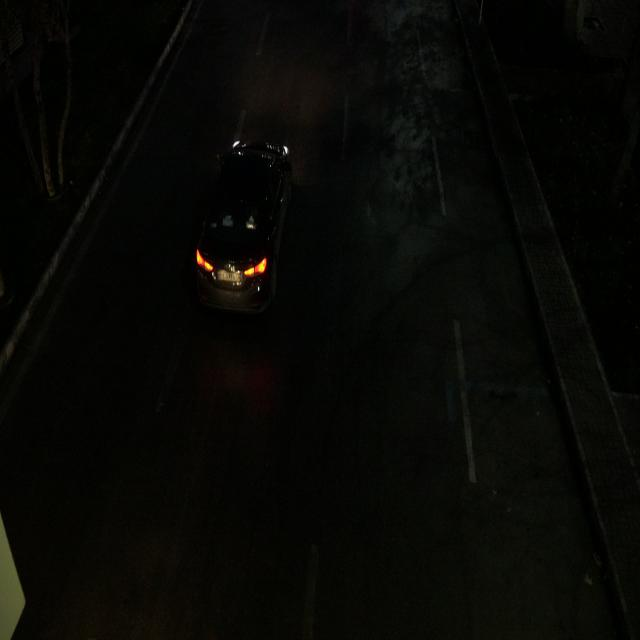truck: (194, 120, 290, 322)
